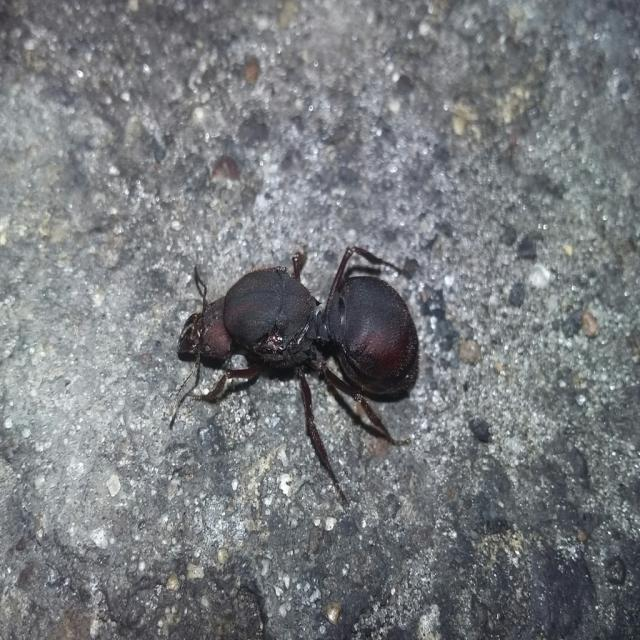Alive-Female-Dealate: (169, 244, 420, 506)
